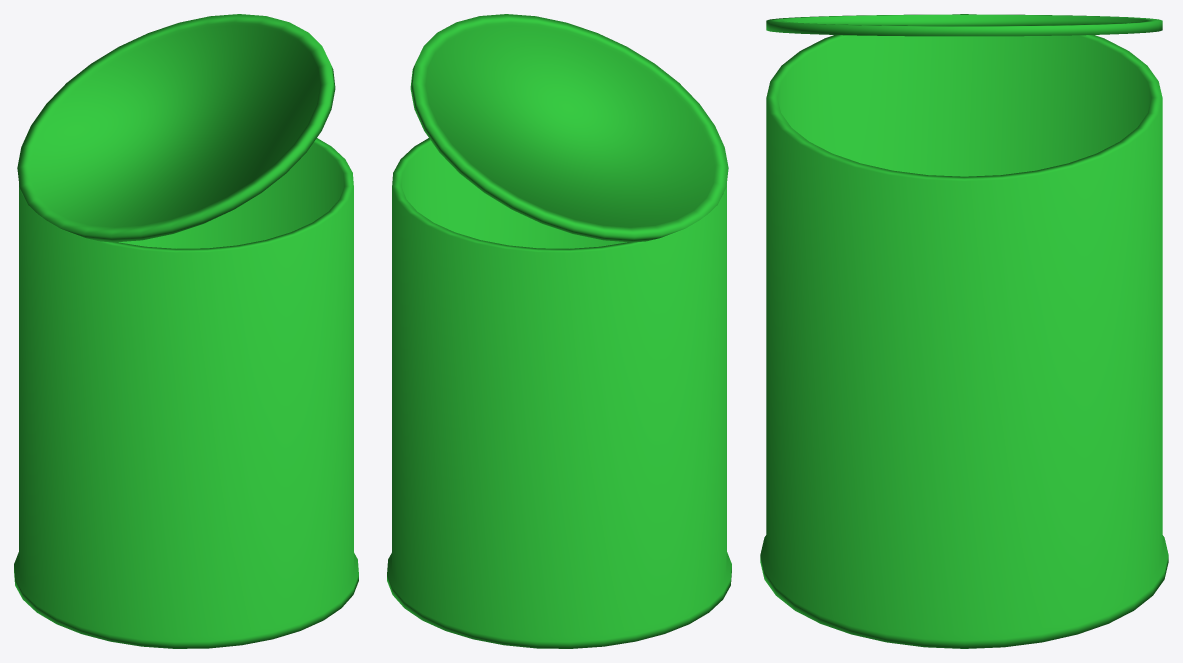
File: baril.fbx
3 renders of one model, left to right at view 1: azimuth 30°, elevation 25°; view 2: azimuth 150°, elevation 25°; view 3: azimuth 270°, elevation 25°, orthographic. The views are drawn at different scales.
Visible parts, largest first — view 1: bidon; view 2: bidon; view 3: bidon.
Boxes of the visible parts, x1=… form: bidon: x1=14, y1=14, x2=358, y2=648; bidon: x1=387, y1=14, x2=731, y2=648; bidon: x1=760, y1=14, x2=1168, y2=648.
Size of the model in its own units: 1174 by 1926 by 1174.
